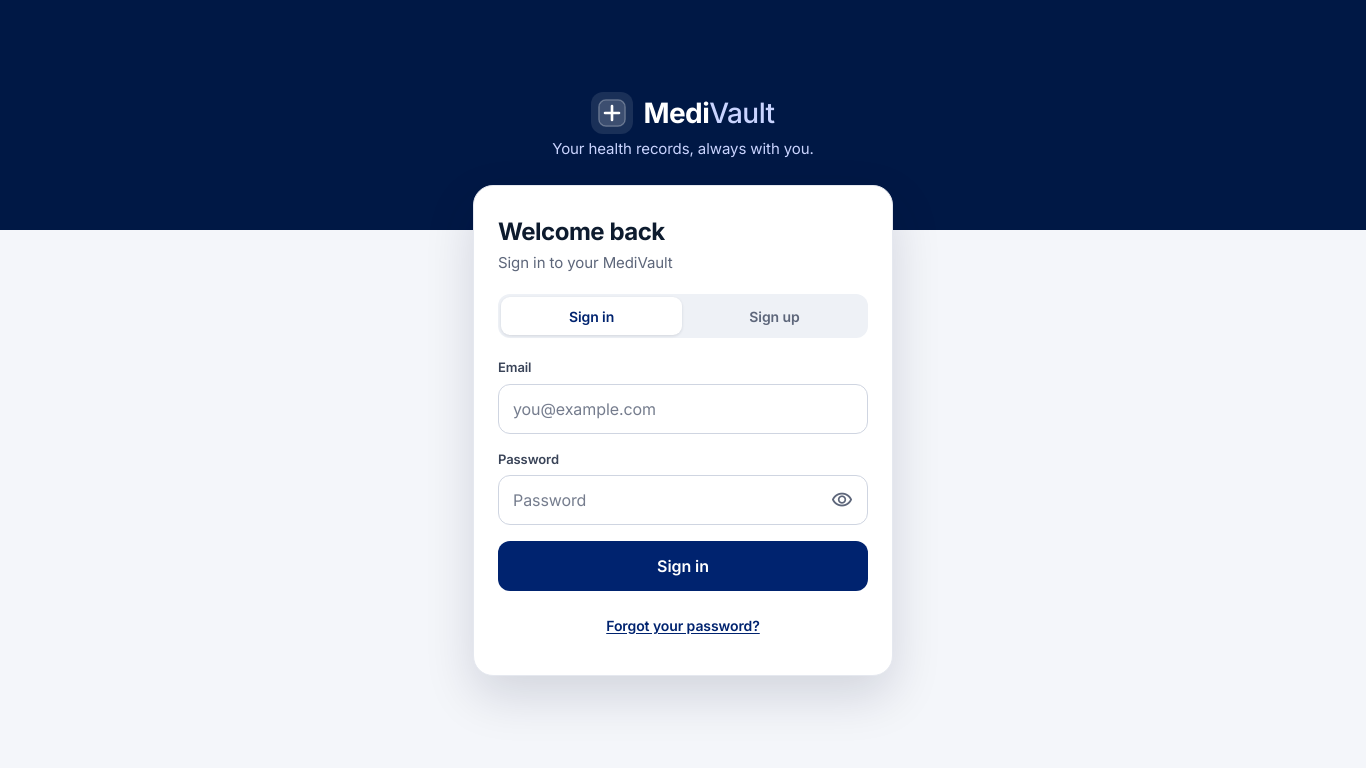
Scenario: a too-short password is refused before a request is made
The width and height of the screenshot is (1366, 768).
Click the tab "Sign up": (774, 316) [684,297,865,335]
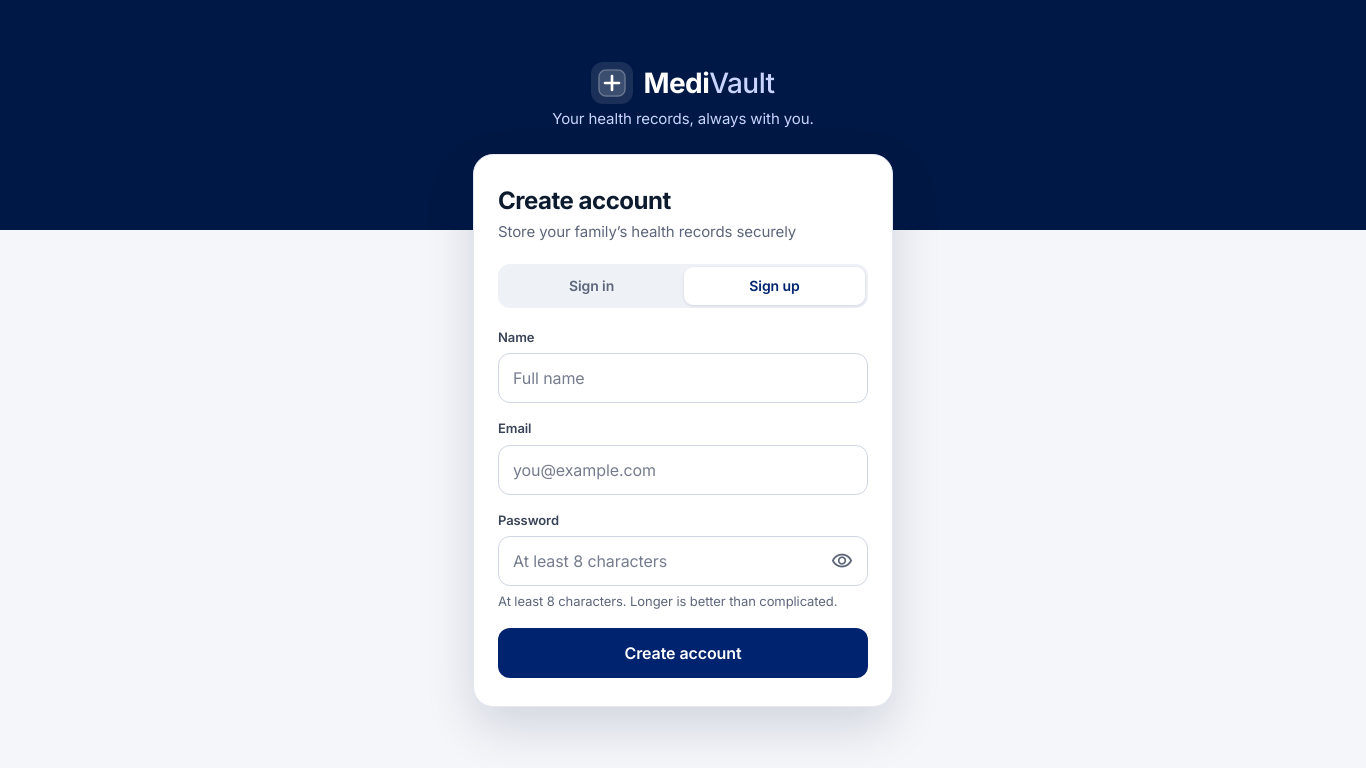
In the field labelled "Name": (683, 378) [498,353,868,403], type "Alice"
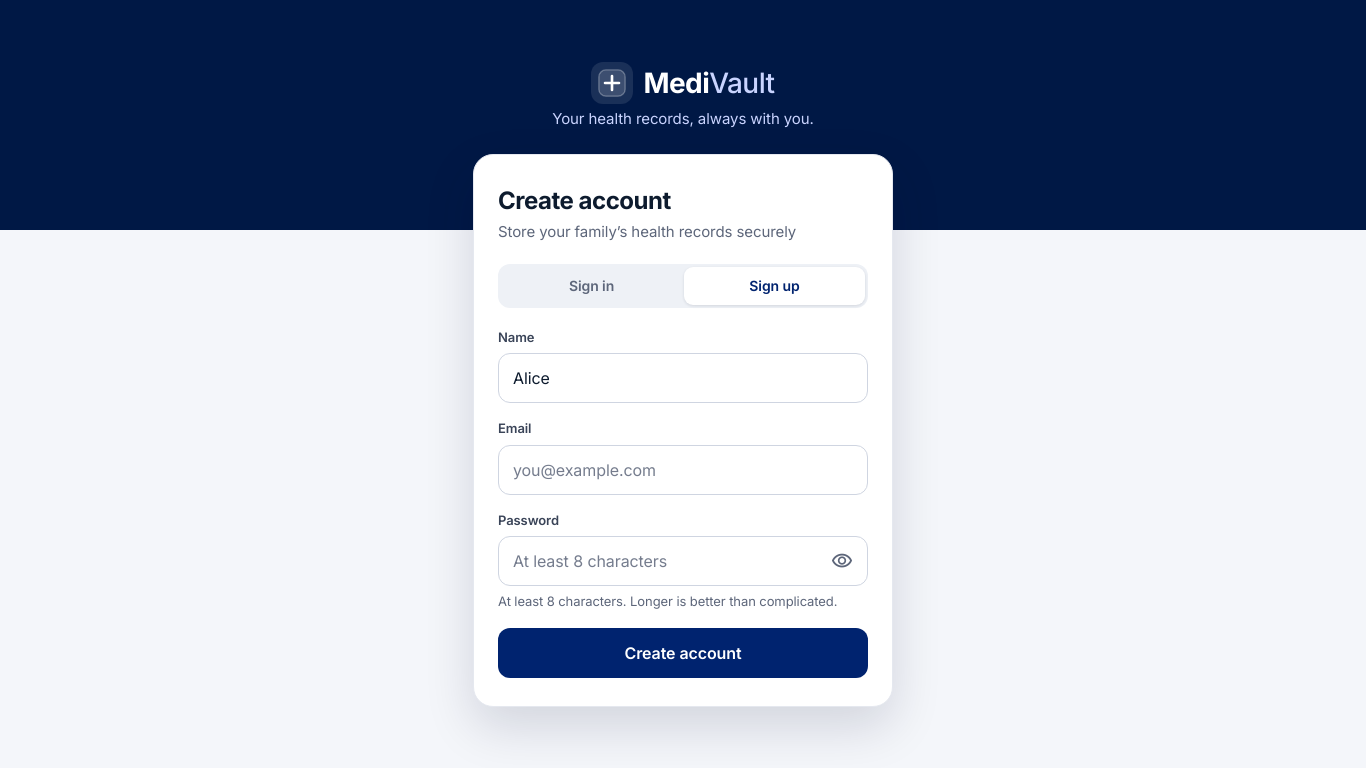
In the field labelled "Email": (683, 470) [498,444,868,494], type "me@example.com"
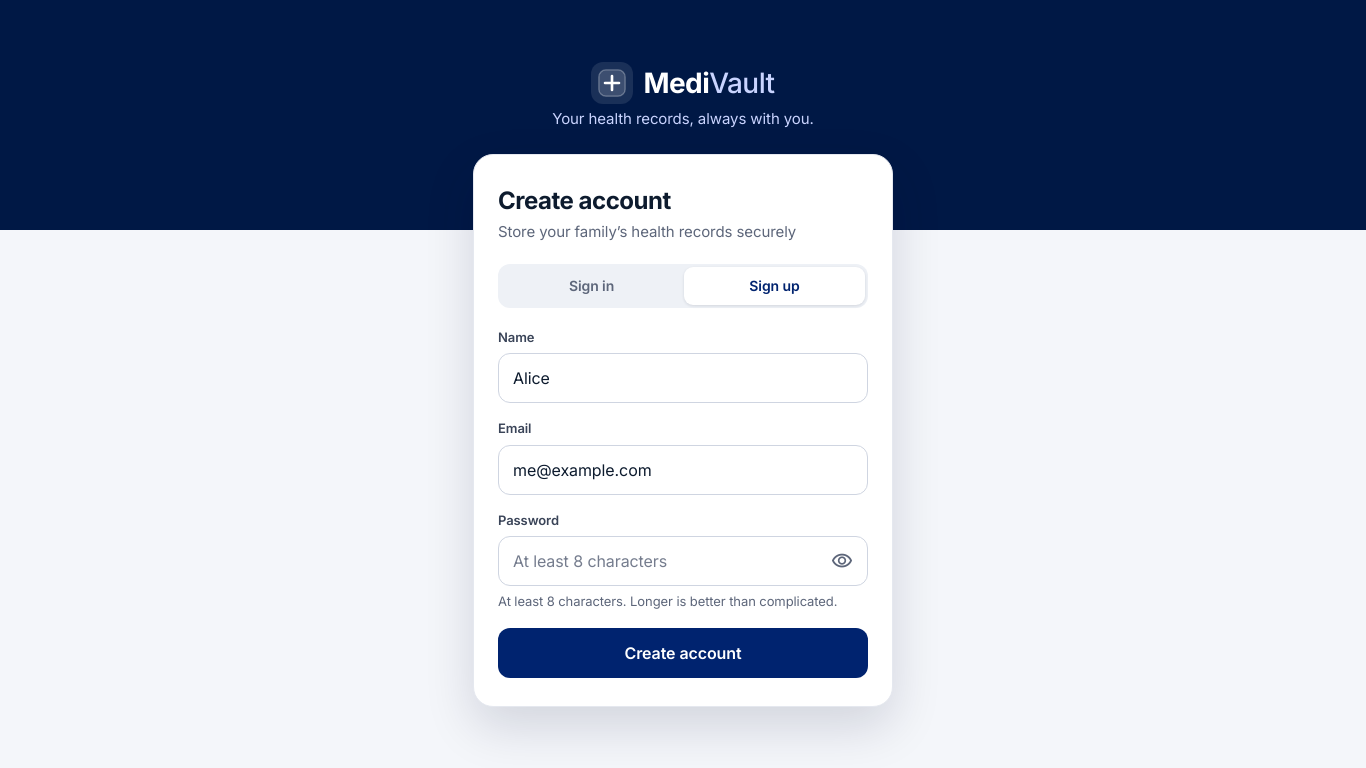
In the password field labelled "Password": (683, 561) [498,536,868,586], type "short"
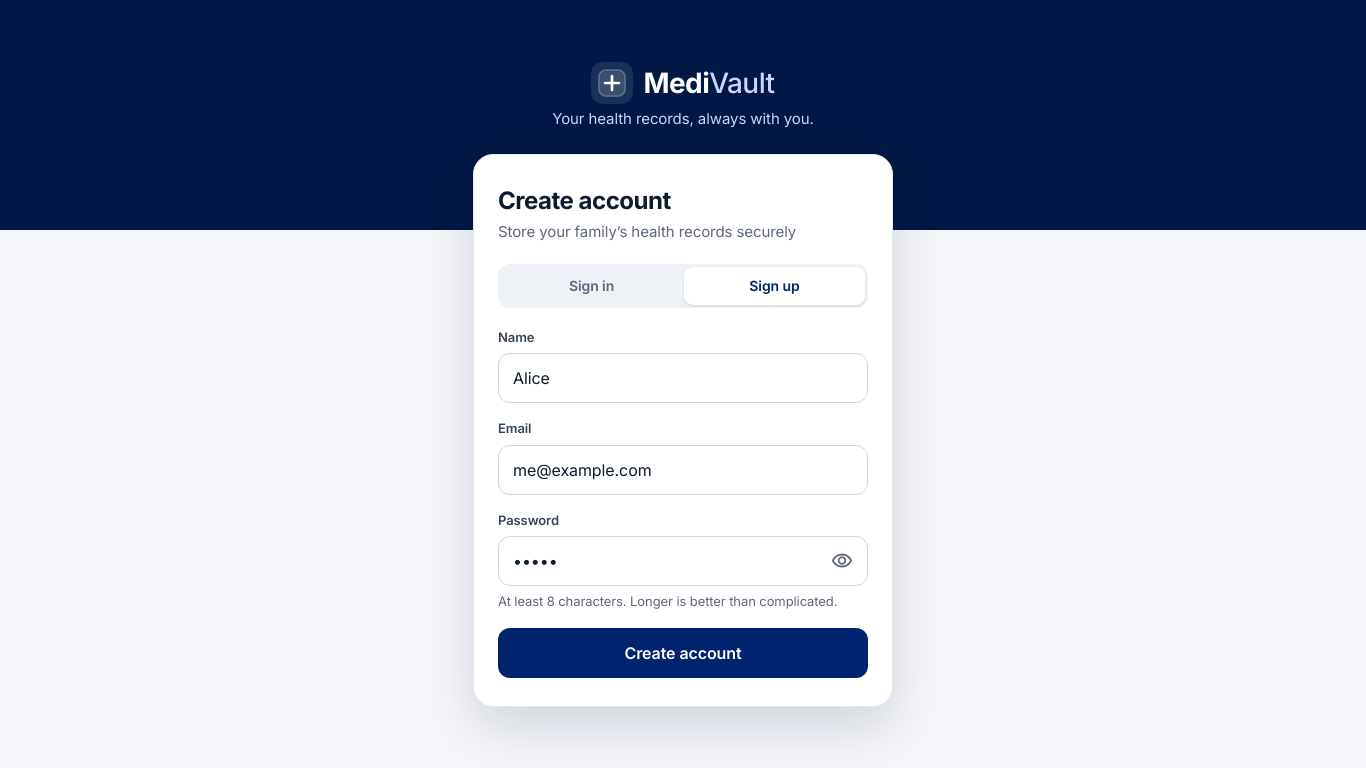
Click the button "Create account": (683, 652) [498,628,868,678]
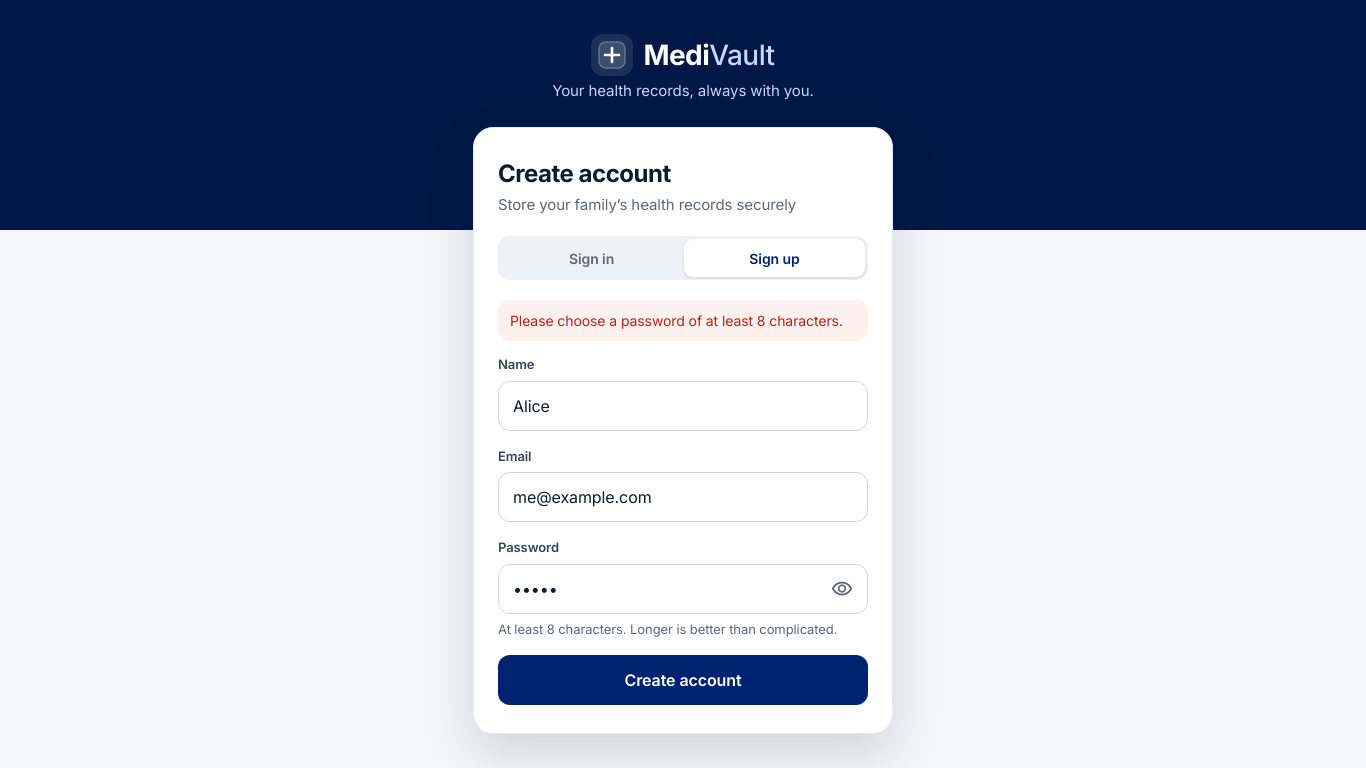
Expected: the message shows "at least 8 characters", [510,312,843,329]
